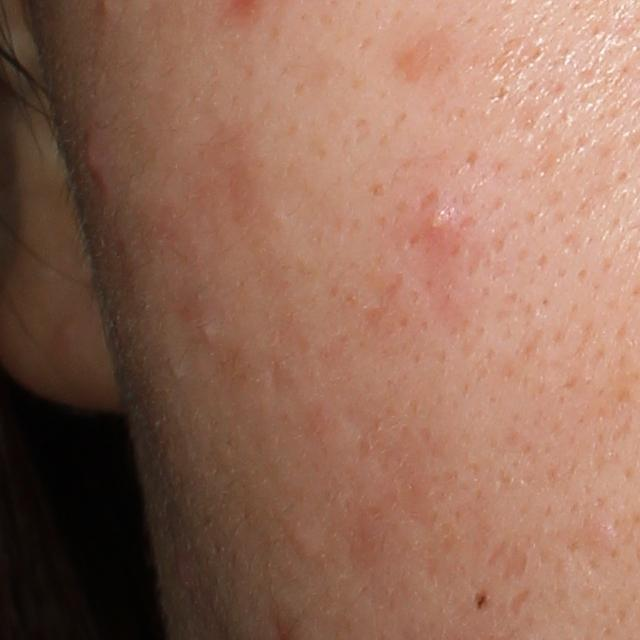atrophic_scar: (499, 545, 529, 583), (507, 586, 533, 619), (485, 541, 509, 569)
comedo: (288, 526, 319, 559), (196, 318, 218, 347)
nevus: (472, 589, 492, 613)
papule: (76, 130, 109, 185)
